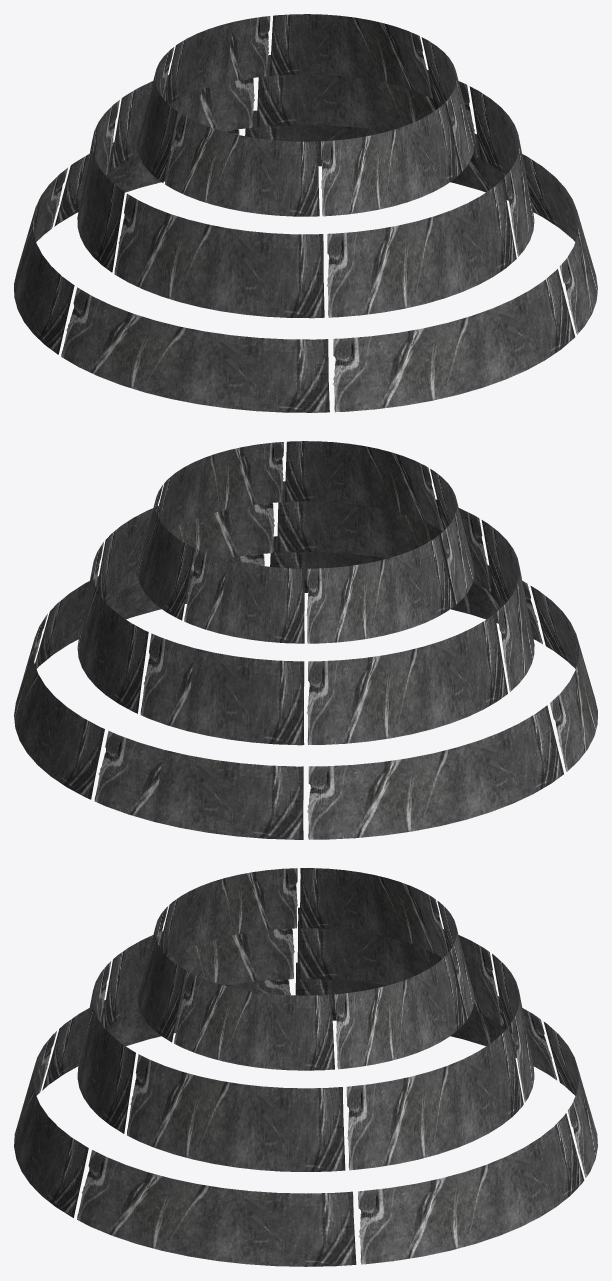
File: A_GongJianShou02.FBX
3 views of the same model, one above another, from view 1: azimuth 30°, elevation 25°; view 2: azimuth 150°, elevation 25°; view 3: azimuth 270°, elevation 25° (orthographic).
Visible parts, largest first — view 1: Cylinder001; view 2: Cylinder001; view 3: Cylinder001.
Boxes of the visible parts, x1,y1,x2,y2 form: Cylinder001: [14, 14, 597, 412]; Cylinder001: [14, 441, 597, 839]; Cylinder001: [14, 868, 597, 1266].
Size of the model in its own units: 95.37 by 38.14 by 95.4.
